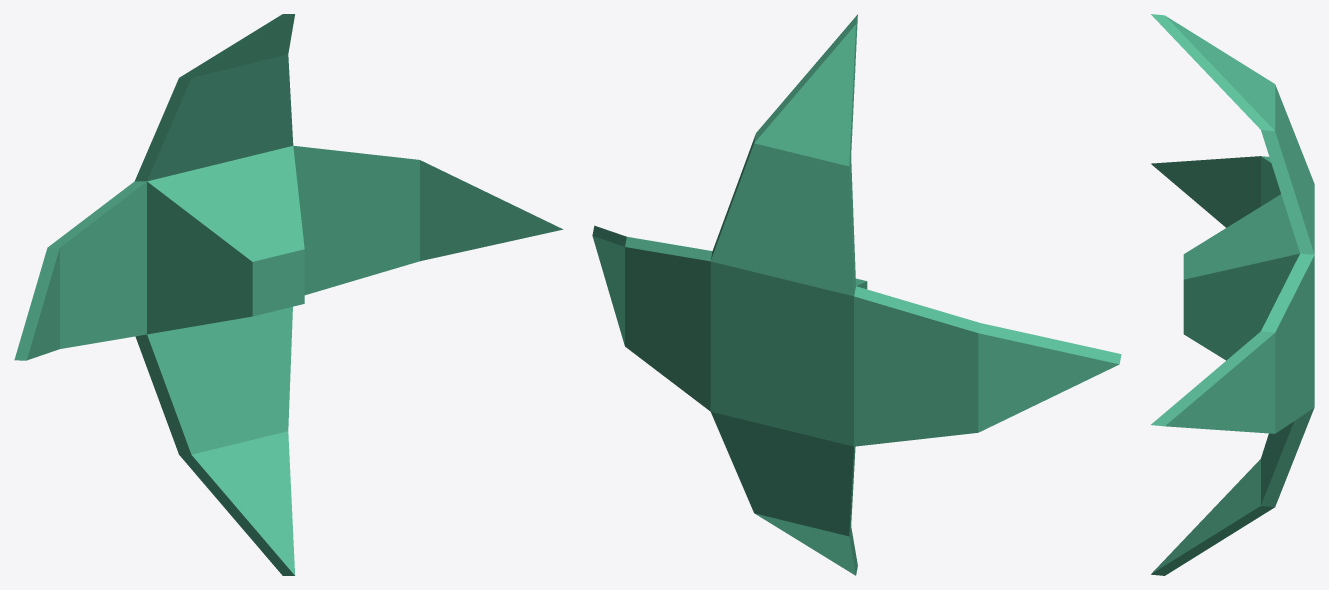
The model's file is tailCollider.obj.
3 views of the same model, side by side, from view 1: azimuth 30°, elevation 25°; view 2: azimuth 150°, elevation 25°; view 3: azimuth 270°, elevation 25° (orthographic).
Visible parts, largest first — view 1: tomato.002, tomato.006, tomato.009, tomato.008, tomato.007, tomato.005, tomato.001, tomato.004, tomato.003; view 2: tomato.002, tomato.007, tomato.008, tomato.009, tomato.006, tomato.004, tomato.003, tomato.001, tomato.005; view 3: tomato.002, tomato.001, tomato.009, tomato.004, tomato.003, tomato.008, tomato.005, tomato.006, tomato.007.
Part boxes in pixels (x1,y1,x2,y2): tomato.002: [147, 146, 304, 334]; tomato.006: [135, 306, 292, 454]; tomato.009: [293, 145, 419, 295]; tomato.008: [135, 54, 293, 181]; tomato.007: [48, 181, 146, 348]; tomato.005: [179, 431, 295, 575]; tomato.001: [420, 160, 563, 261]; tomato.004: [14, 247, 59, 360]; tomato.003: [179, 14, 294, 77]; tomato.002: [710, 261, 867, 446]; tomato.007: [854, 286, 980, 446]; tomato.008: [710, 134, 855, 296]; tomato.009: [625, 236, 712, 411]; tomato.006: [711, 412, 855, 536]; tomato.004: [978, 323, 1121, 432]; tomato.003: [754, 14, 857, 166]; tomato.001: [592, 225, 626, 345]; tomato.005: [755, 513, 857, 575]; tomato.002: [1183, 194, 1299, 360]; tomato.001: [1151, 331, 1275, 433]; tomato.009: [1261, 253, 1314, 433]; tomato.004: [1151, 156, 1260, 227]; tomato.003: [1151, 14, 1275, 131]; tomato.008: [1261, 85, 1314, 254]; tomato.005: [1151, 459, 1274, 575]; tomato.006: [1261, 408, 1314, 507]; tomato.007: [1261, 156, 1280, 206].
Size of the model in its own units: 0.0879 by 0.0876 by 0.0231.
